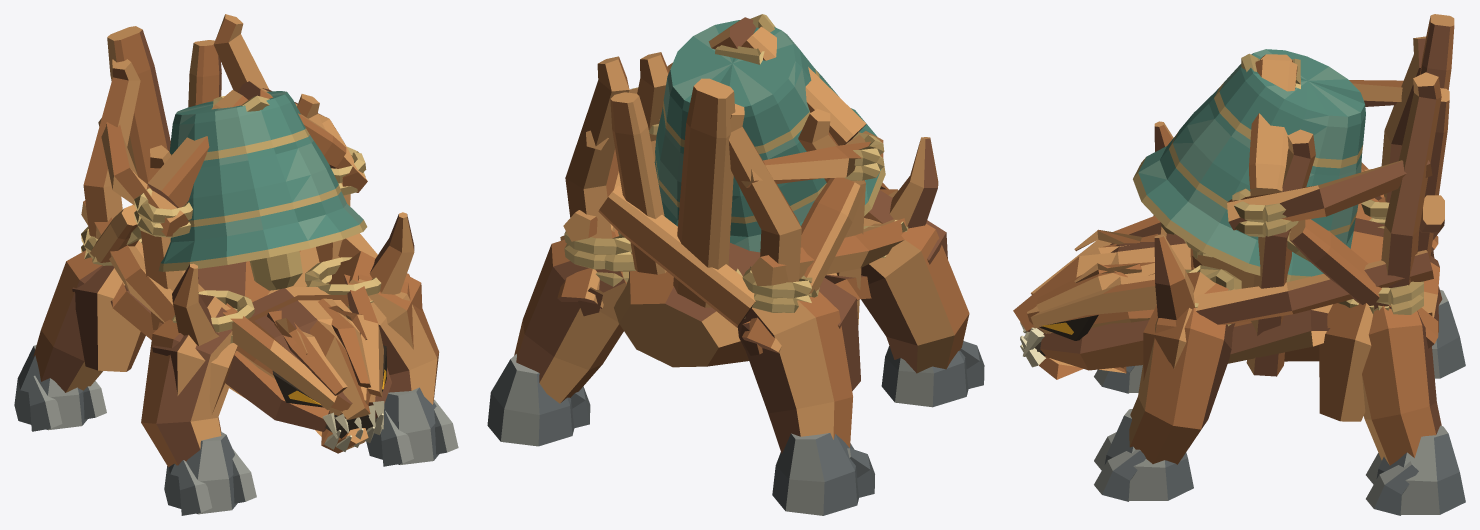
Rendered from bellback-complete-pass1.glb.
The picture shows the model from 3 angles, left to right: view 1: azimuth 30°, elevation 25°; view 2: azimuth 150°, elevation 25°; view 3: azimuth 270°, elevation 25°; orthographic projection. The views are drawn at different scales.
Parts seen in each view (by area): view 1: Hollow cast bell, Left fore timber leg, Left hind timber leg, Left hind shoulder cap, Canted stern spine, Broken ship rib -1 1, Right fore timber leg, Solid timber cranium, Lower cheek timber, Left fore stone foot, Shaped orbital brow timber, Right fore stone foot (+33 smaller); view 2: Hollow cast bell, Left hind timber leg, Left fore timber leg, Right hind timber leg, Canted stern spine, Barrel timber hull, Crossed stern wreck timber, Left hind stone foot, Broken ship rib 1 1, Broken ship rib -1 1, Right hind stone foot, Split stern companion (+23 smaller); view 3: Hollow cast bell, Right fore timber leg, Right hind timber leg, Broken ship rib 1 1, Lower fractured wale 1, Right hind shoulder cap, Upper curved wreck wale 1, Broken ship rib 1 0, Right hind stone foot, Diagonal buried ship brace 1, Lower cheek timber.001, Arch right (+27 smaller).
Part boxes in pixels (bbox=[...]): Hollow cast bell: bbox=[158, 91, 367, 271]; Left fore timber leg: bbox=[141, 307, 236, 467]; Left hind timber leg: bbox=[33, 250, 102, 392]; Left hind shoulder cap: bbox=[72, 241, 145, 371]; Canted stern spine: bbox=[107, 26, 170, 183]; Broken ship rib -1 1: bbox=[83, 59, 140, 237]; Right fore timber leg: bbox=[332, 258, 439, 404]; Solid timber cranium: bbox=[237, 287, 370, 415]; Lower cheek timber: bbox=[225, 351, 329, 431]; Left fore stone foot: bbox=[164, 431, 237, 514]; Shaped orbital brow timber: bbox=[223, 303, 337, 409]; Right fore stone foot: bbox=[366, 387, 439, 464]; Hollow cast bell: bbox=[654, 20, 885, 252]; Left hind timber leg: bbox=[738, 291, 852, 453]; Left fore timber leg: bbox=[861, 218, 969, 373]; Right hind timber leg: bbox=[514, 230, 626, 403]; Canted stern spine: bbox=[673, 78, 735, 307]; Barrel timber hull: bbox=[614, 243, 837, 367]; Crossed stern wreck timber: bbox=[598, 185, 755, 327]; Left hind stone foot: bbox=[772, 433, 859, 515]; Broken ship rib 1 1: bbox=[565, 56, 629, 238]; Broken ship rib -1 1: bbox=[728, 104, 801, 282]; Right hind stone foot: bbox=[487, 354, 574, 446]; Split stern companion: bbox=[610, 92, 666, 274]; Hollow cast bell: bbox=[1133, 49, 1365, 282]; Right fore timber leg: bbox=[1129, 282, 1235, 464]; Right hind timber leg: bbox=[1362, 306, 1441, 465]; Broken ship rib 1 1: bbox=[1381, 72, 1441, 287]; Lower fractured wale 1: bbox=[1195, 250, 1433, 324]; Right hind shoulder cap: bbox=[1319, 303, 1372, 421]; Upper curved wreck wale 1: bbox=[1227, 160, 1432, 230]; Broken ship rib 1 0: bbox=[1246, 129, 1315, 376]; Right hind stone foot: bbox=[1376, 425, 1465, 514]; Diagonal buried ship brace 1: bbox=[1289, 219, 1438, 348]; Lower cheek timber.001: bbox=[1040, 320, 1148, 370]; Arch right: bbox=[1249, 59, 1297, 196].
Size of the model in its own units: 3.33 by 3.49 by 3.68.
